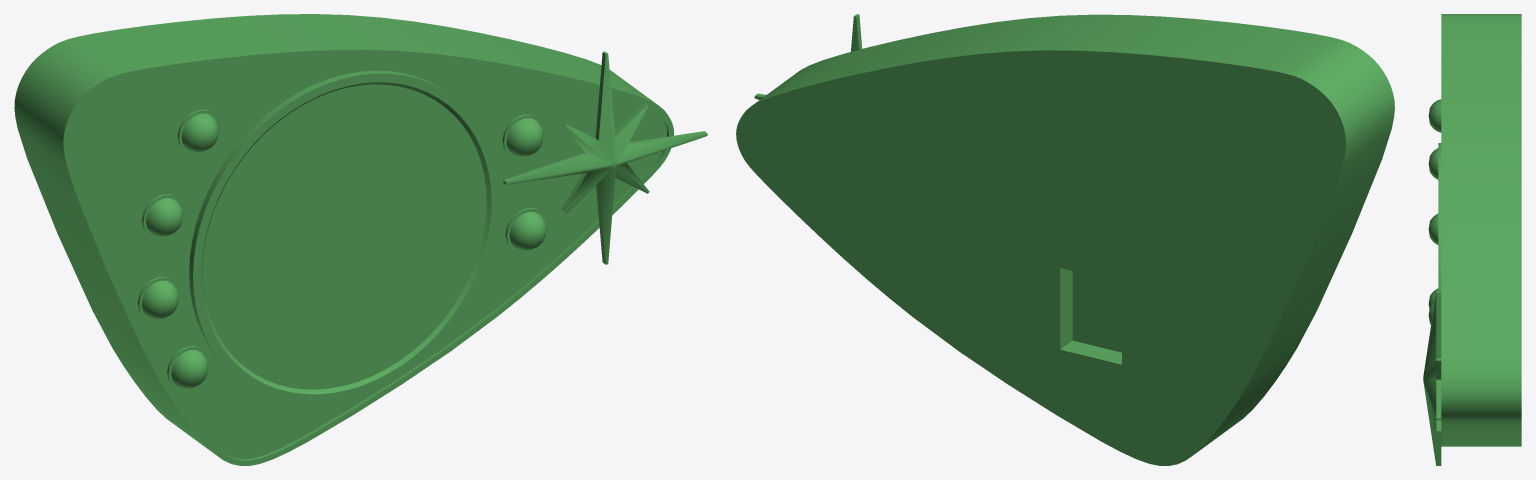
File: SM_VanityDresser_01d.fbx
3 views of the same model, side by side, from view 1: azimuth 30°, elevation 25°; view 2: azimuth 150°, elevation 25°; view 3: azimuth 270°, elevation 25° (orthographic). The views are drawn at different scales.
Visible parts, largest first — view 1: SM_VanityDresser_01d; view 2: SM_VanityDresser_01d; view 3: SM_VanityDresser_01d.
Part boxes in pixels (x1,y1,x2,y2): SM_VanityDresser_01d: (14,14,707,465); SM_VanityDresser_01d: (736,14,1394,465); SM_VanityDresser_01d: (1423,14,1521,465).
Size of the model in its own units: 4.89 by 3.09 by 0.7916.
